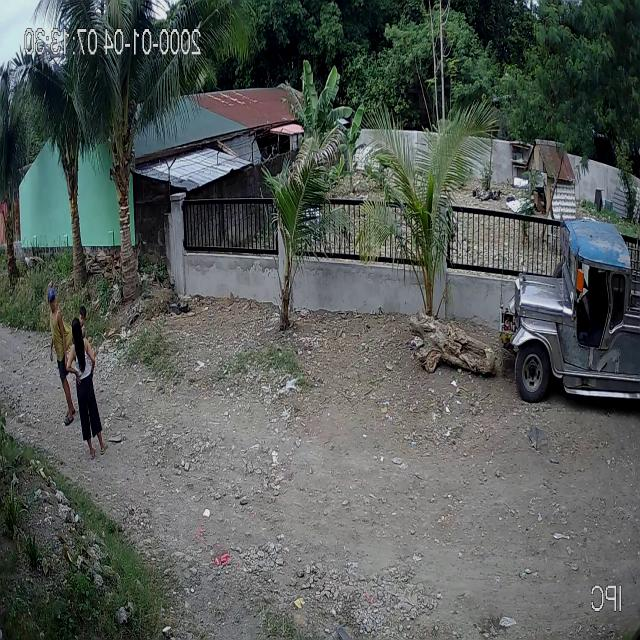standing: (65, 315, 108, 462), (70, 302, 91, 422)
walking: (49, 284, 79, 426)
